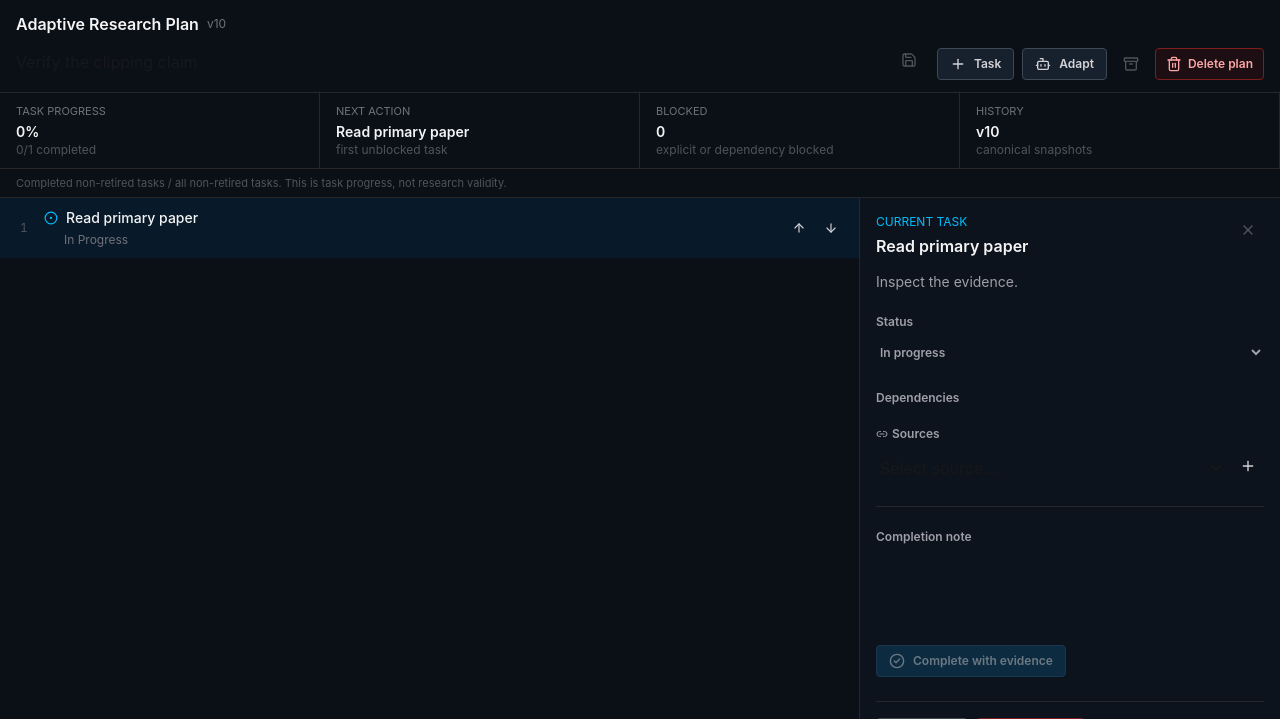
Test: WorkspaceResearchPlanPage › does not let a delayed empty refresh erase a task created after deleting the last task
Click the text "Read primary paper" below "Next action": [403, 131] box 336,122 -> 469,140
(page scrolled)
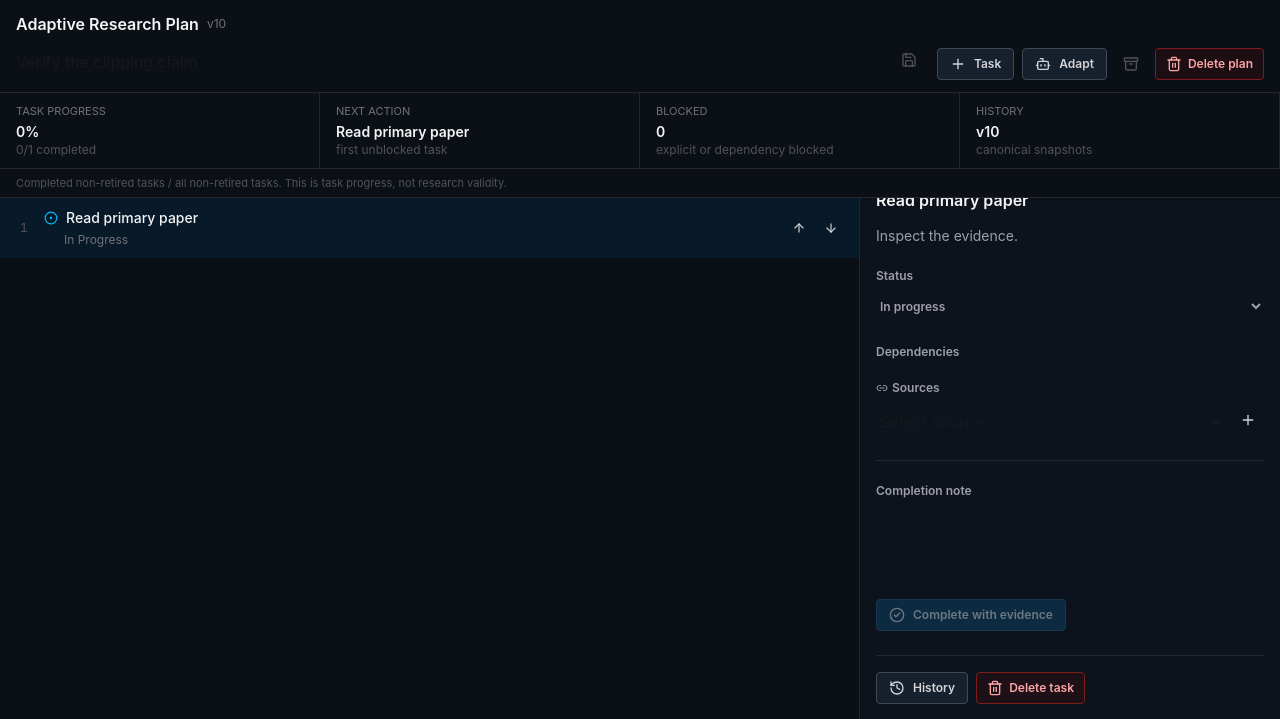
Click the button "Delete task": [1031, 688] box 976,672 -> 1085,704
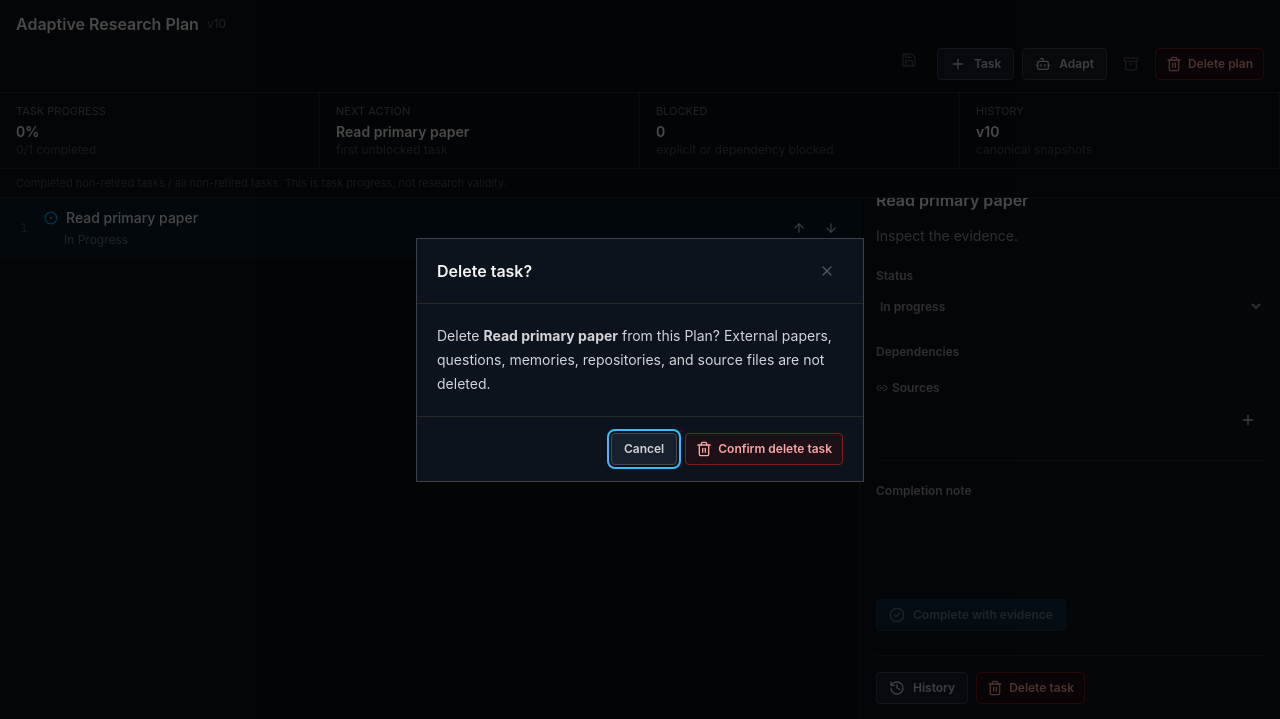
expect the dialog "Delete task?" is shown: met, box 416,238 -> 864,482
Click the button "Confirm delete task": [764, 449] box 685,433 -> 843,465
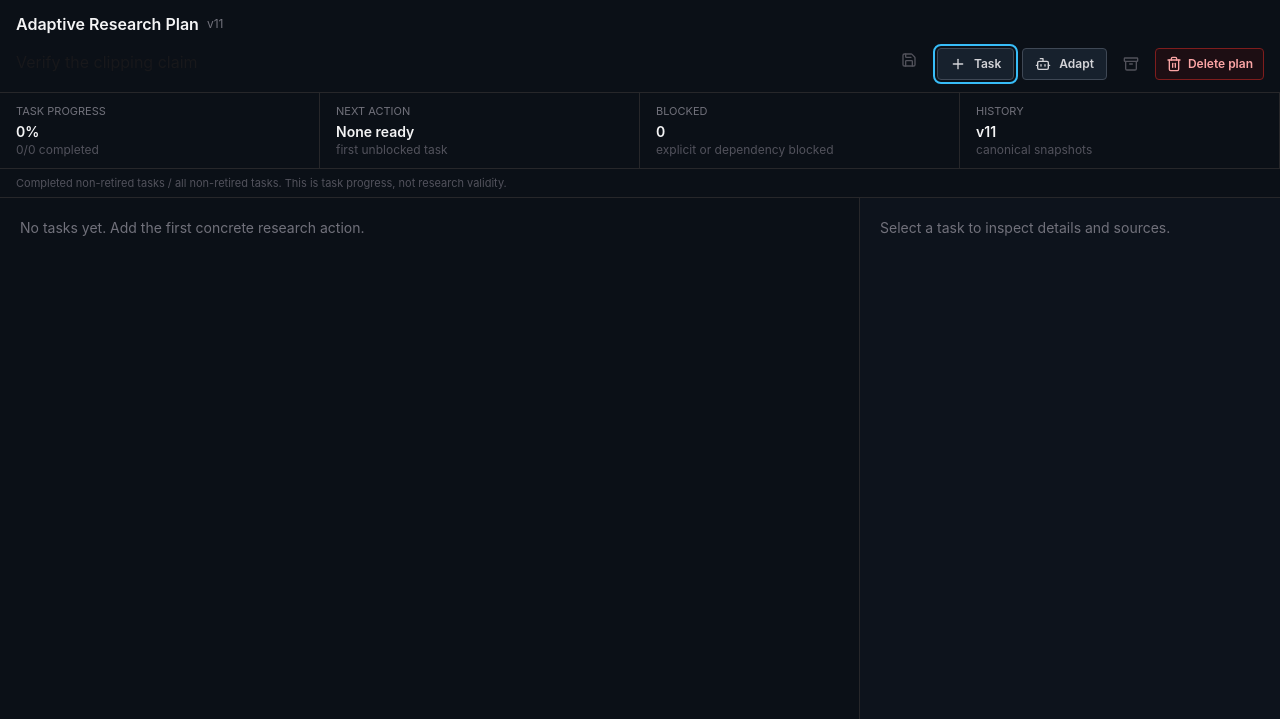
expect the text "No tasks yet. Add the first concrete research action." is shown: met, box 20,219 -> 364,236
Click the button "Task": [976, 64] box 937,48 -> 1014,80
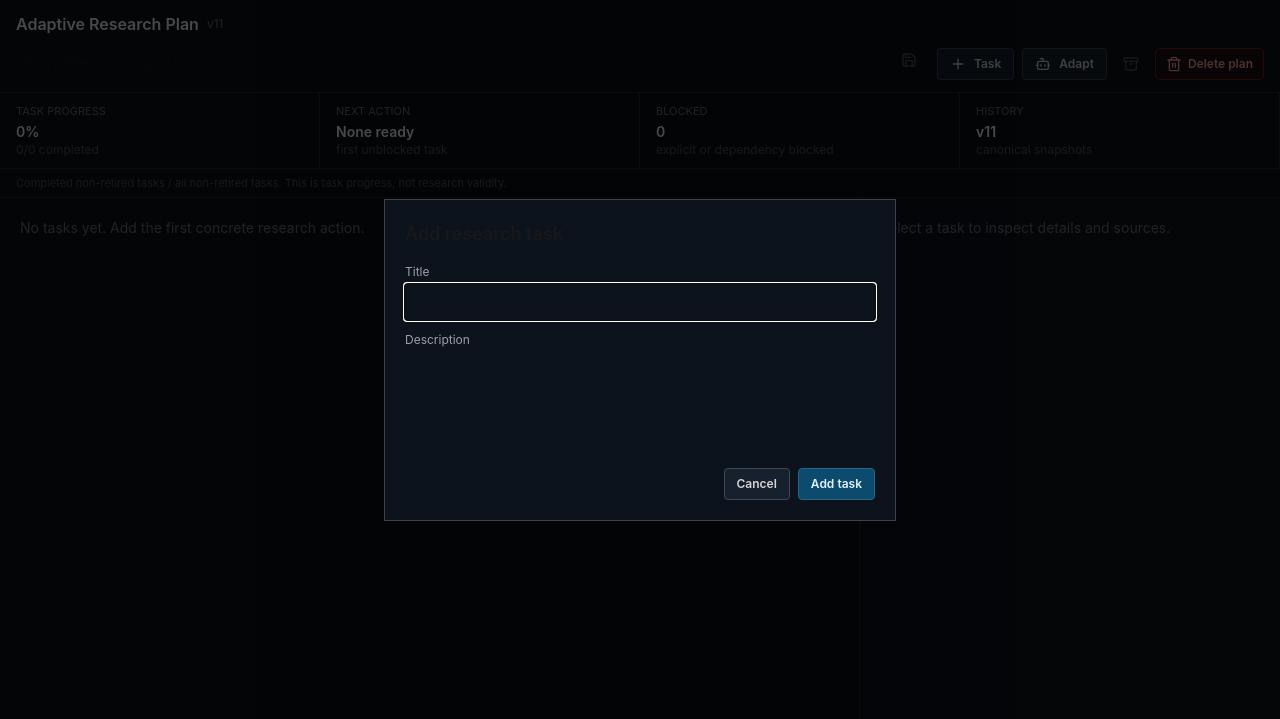
In the field labelled "Title": [640, 302] box 405,284 -> 875,320, type "Replacement task"
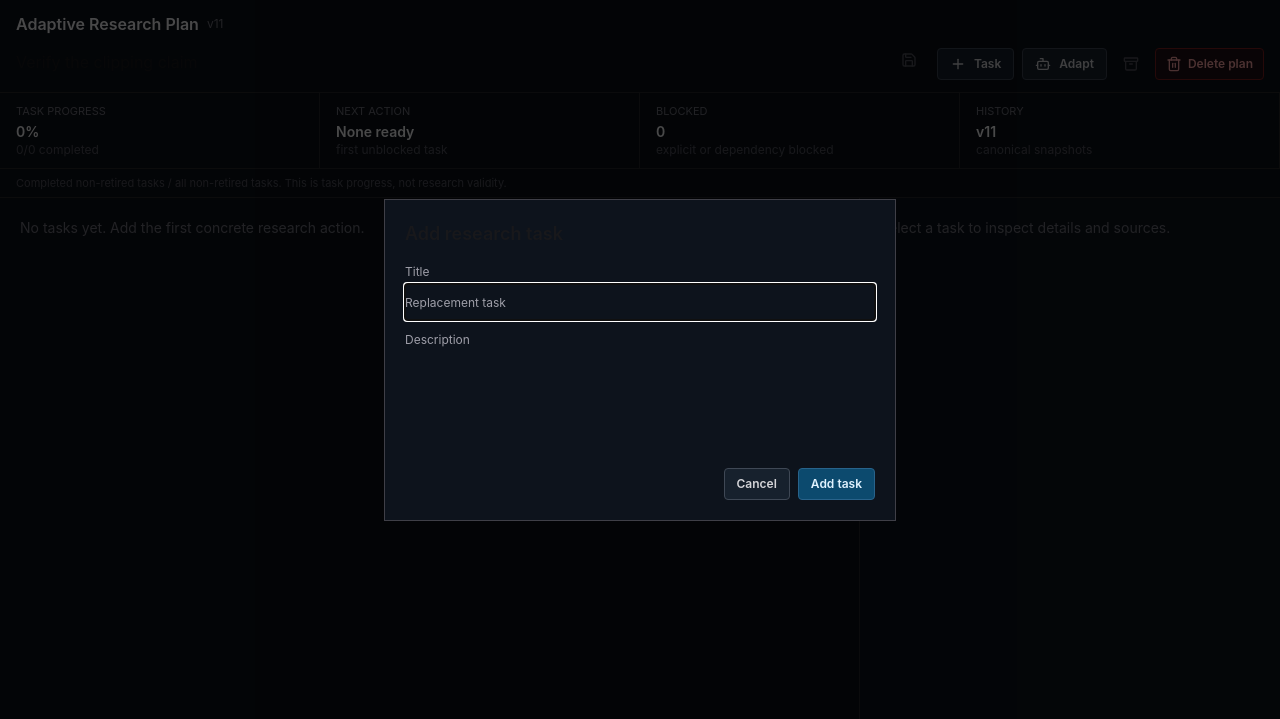
Click the button "Add task": [836, 484] box 798,468 -> 875,500
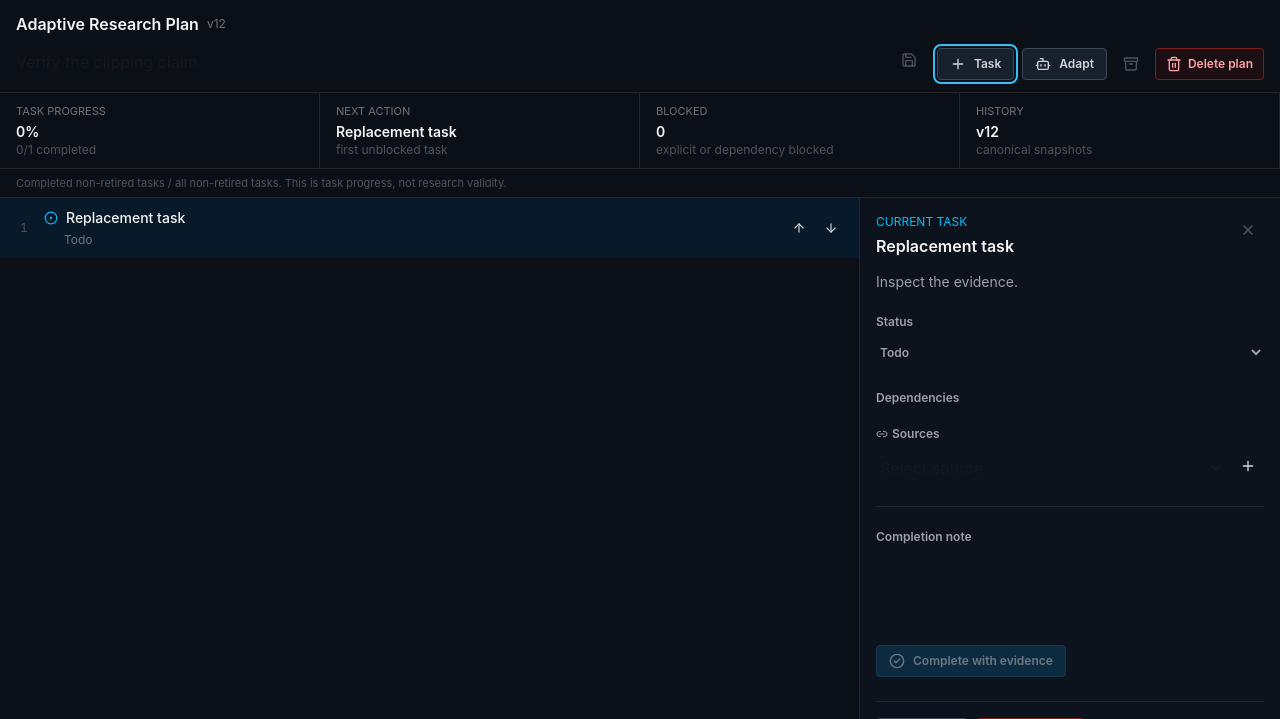
expect the text "Replacement task" below "Next action" is shown: met, box 336,122 -> 457,140
expect the text "No tasks yet. Add the first concrete research action." is gone: met
